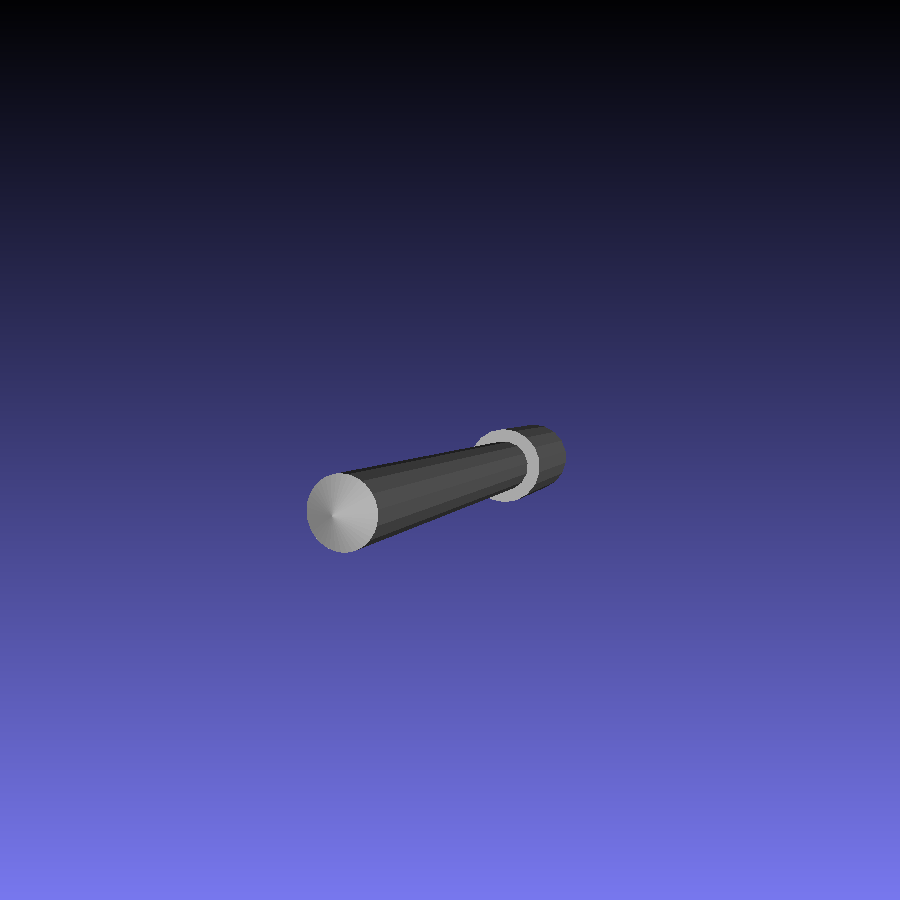cargo_g: (306, 424, 567, 554)
